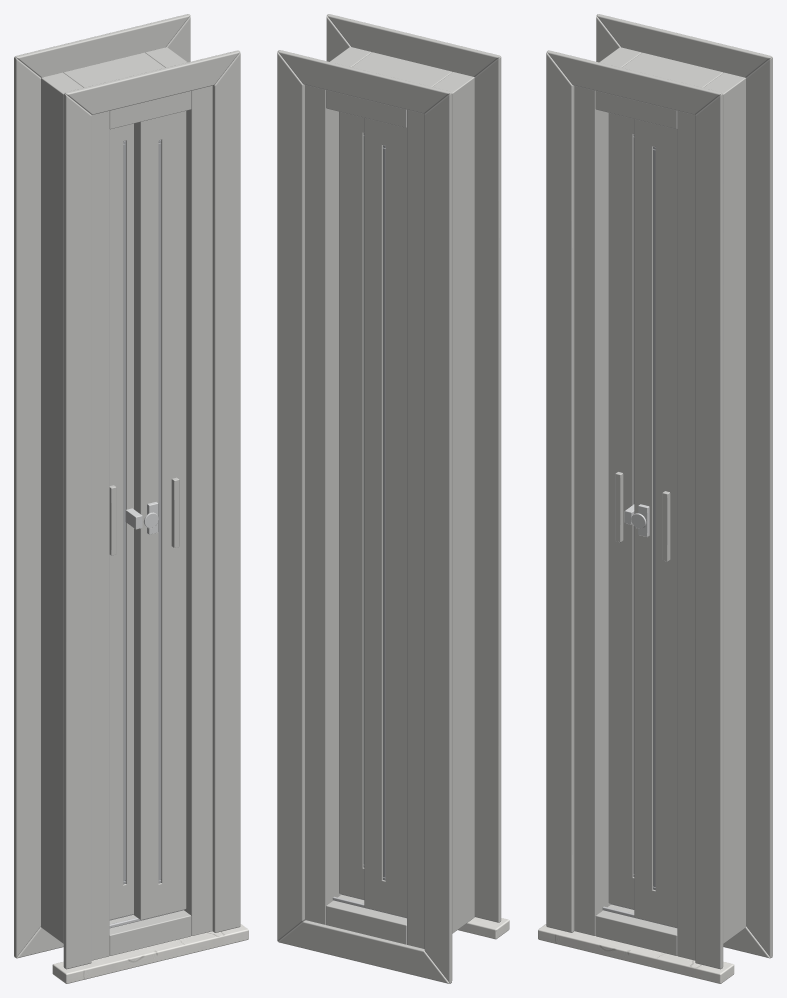
The model's file is mk_win_curve_1.glb.
3 views of the same model, side by side, from view 1: azimuth 30°, elevation 25°; view 2: azimuth 150°, elevation 25°; view 3: azimuth 330°, elevation 25° (orthographic).
Visible parts, largest first — view 1: mk_win_curve_1_casing, mk_win_curve_1_frame, mk_win_curve_1_sash_inner_r, mk_win_curve_1_sash_inner_l, mk_win_curve_1_sill, mk_win_curve_1_hardware; view 2: mk_win_curve_1_casing, mk_win_curve_1_frame, mk_win_curve_1_sash_outer_l, mk_win_curve_1_sash_outer_r, mk_win_curve_1_sill; view 3: mk_win_curve_1_casing, mk_win_curve_1_frame, mk_win_curve_1_sash_inner_r, mk_win_curve_1_sash_inner_l, mk_win_curve_1_sill, mk_win_curve_1_hardware.
Part boxes in pixels (bbox=[...]): mk_win_curve_1_casing: bbox=[14, 14, 240, 969]; mk_win_curve_1_frame: bbox=[41, 47, 212, 960]; mk_win_curve_1_sash_inner_r: bbox=[134, 111, 186, 919]; mk_win_curve_1_sash_inner_l: bbox=[109, 123, 133, 919]; mk_win_curve_1_sill: bbox=[52, 924, 248, 983]; mk_win_curve_1_hardware: bbox=[109, 477, 179, 555]; mk_win_curve_1_casing: bbox=[277, 14, 501, 983]; mk_win_curve_1_frame: bbox=[304, 47, 474, 948]; mk_win_curve_1_sash_outer_l: bbox=[364, 118, 406, 917]; mk_win_curve_1_sash_outer_r: bbox=[339, 111, 364, 899]; mk_win_curve_1_sill: bbox=[458, 917, 509, 939]; mk_win_curve_1_casing: bbox=[546, 14, 772, 969]; mk_win_curve_1_frame: bbox=[574, 47, 745, 960]; mk_win_curve_1_sash_inner_r: bbox=[634, 119, 677, 927]; mk_win_curve_1_sash_inner_l: bbox=[608, 113, 634, 909]; mk_win_curve_1_sill: bbox=[538, 924, 734, 983]; mk_win_curve_1_hardware: bbox=[615, 472, 670, 561].
Bounding box in the file's own units: 0.4513 × 2.12 × 0.242.
Materials: 6 (1 with a texture image).
